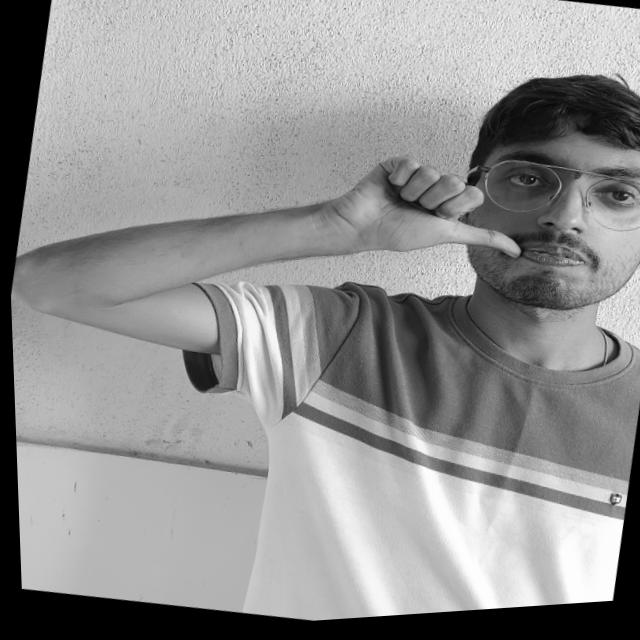Drink: (307, 133, 539, 315)
